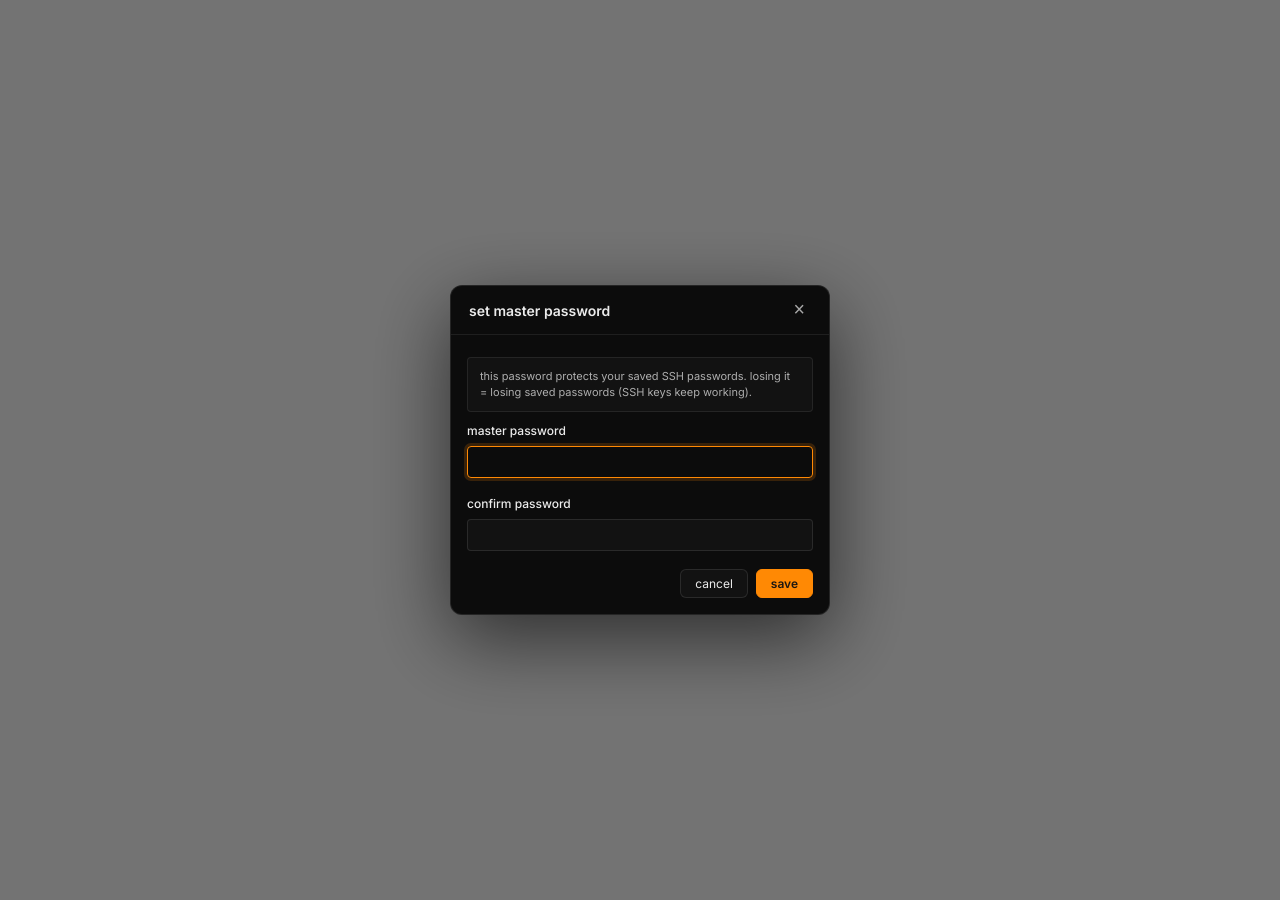
Test: MasterPasswordModal - init mode › mismatched confirmation shows error
Type "longenough" into the 1st password field with class "settings-input" at (640, 462), box [467,446,813,478]
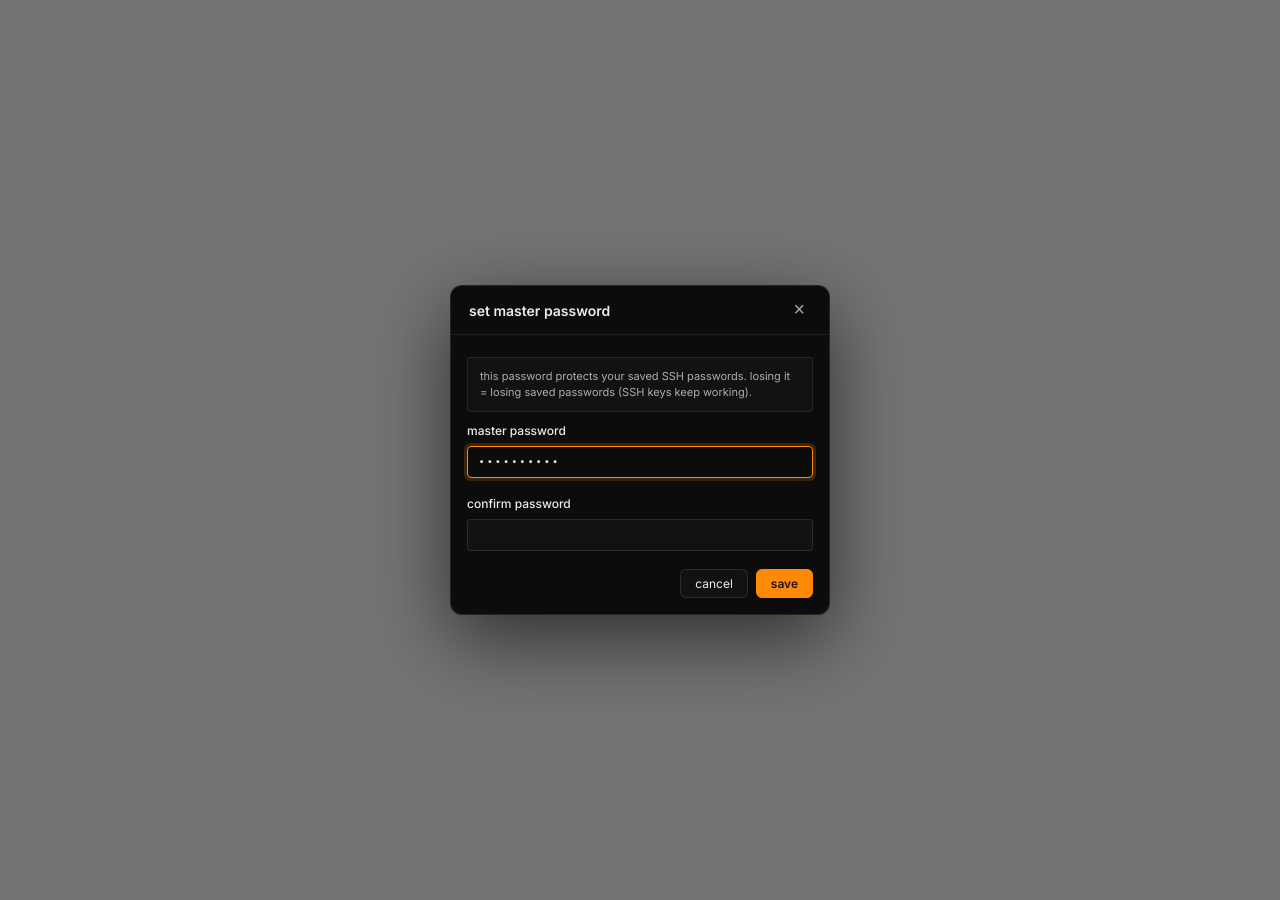
Type "different1" into the password field with class "settings-input" below "confirm password" at (640, 535), box [467,519,813,551]
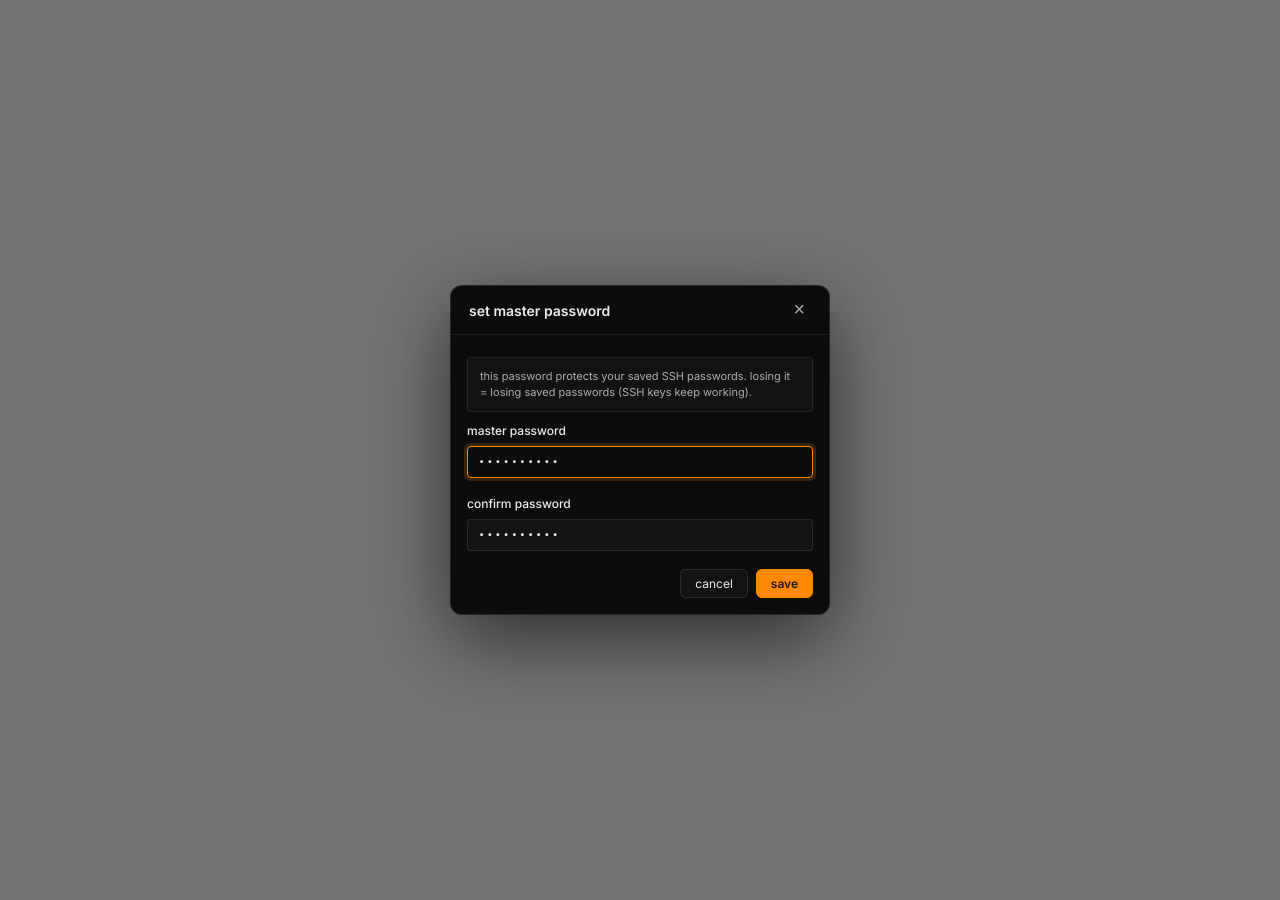
Click the button "save" at (784, 583), box [756,569,813,598]
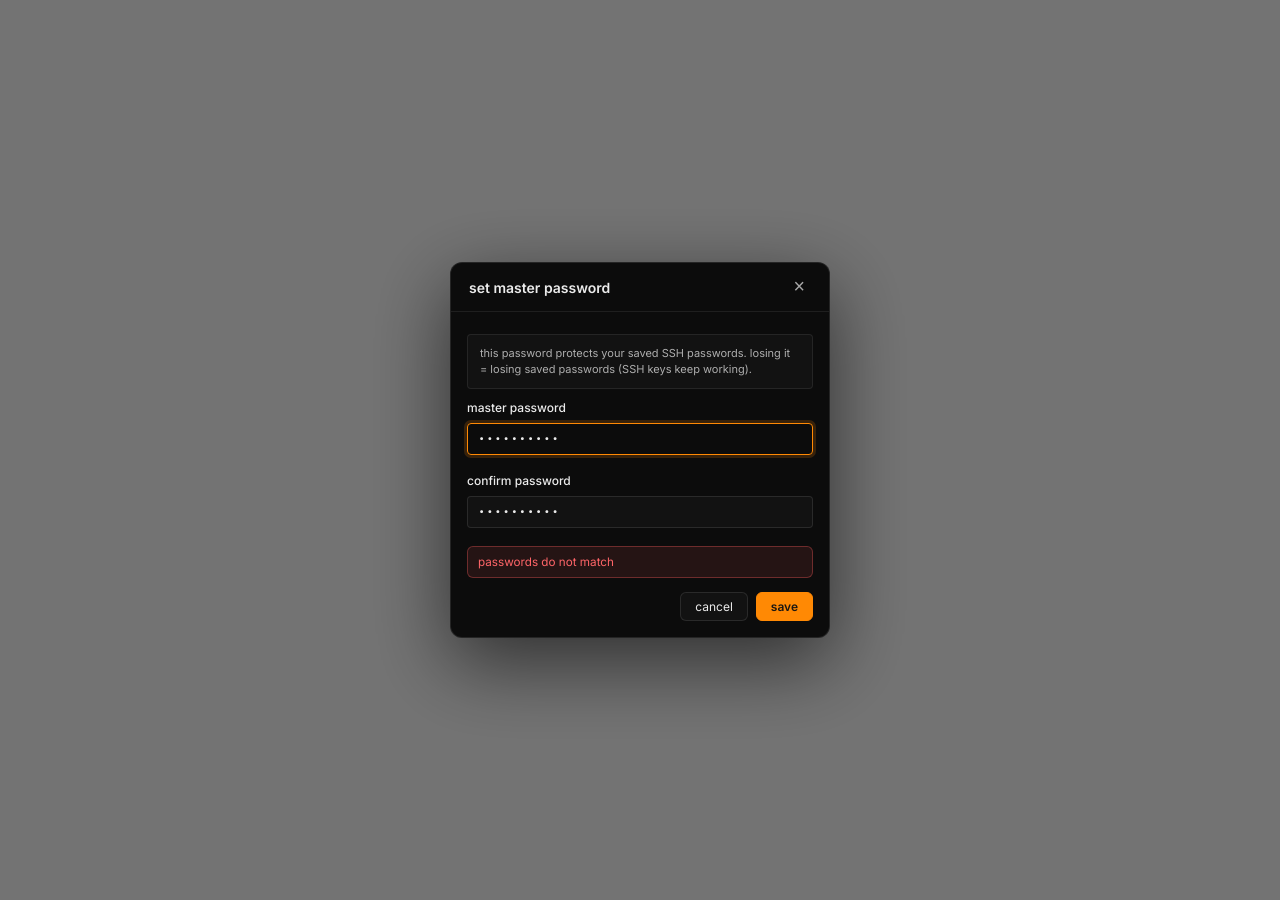
Check: the text "passwords do not match" is shown, box [467,546,813,578]
